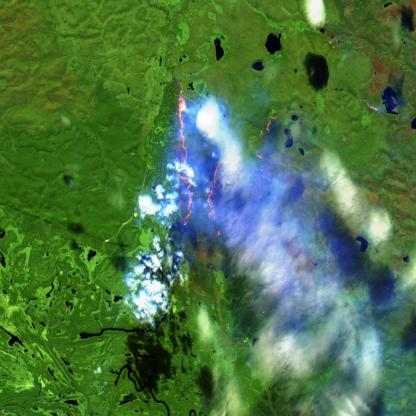fire: (166, 77, 281, 241)
